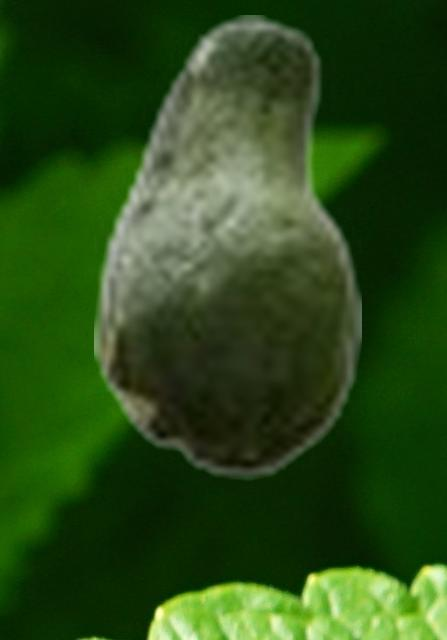sayote: (94, 15, 360, 480)
